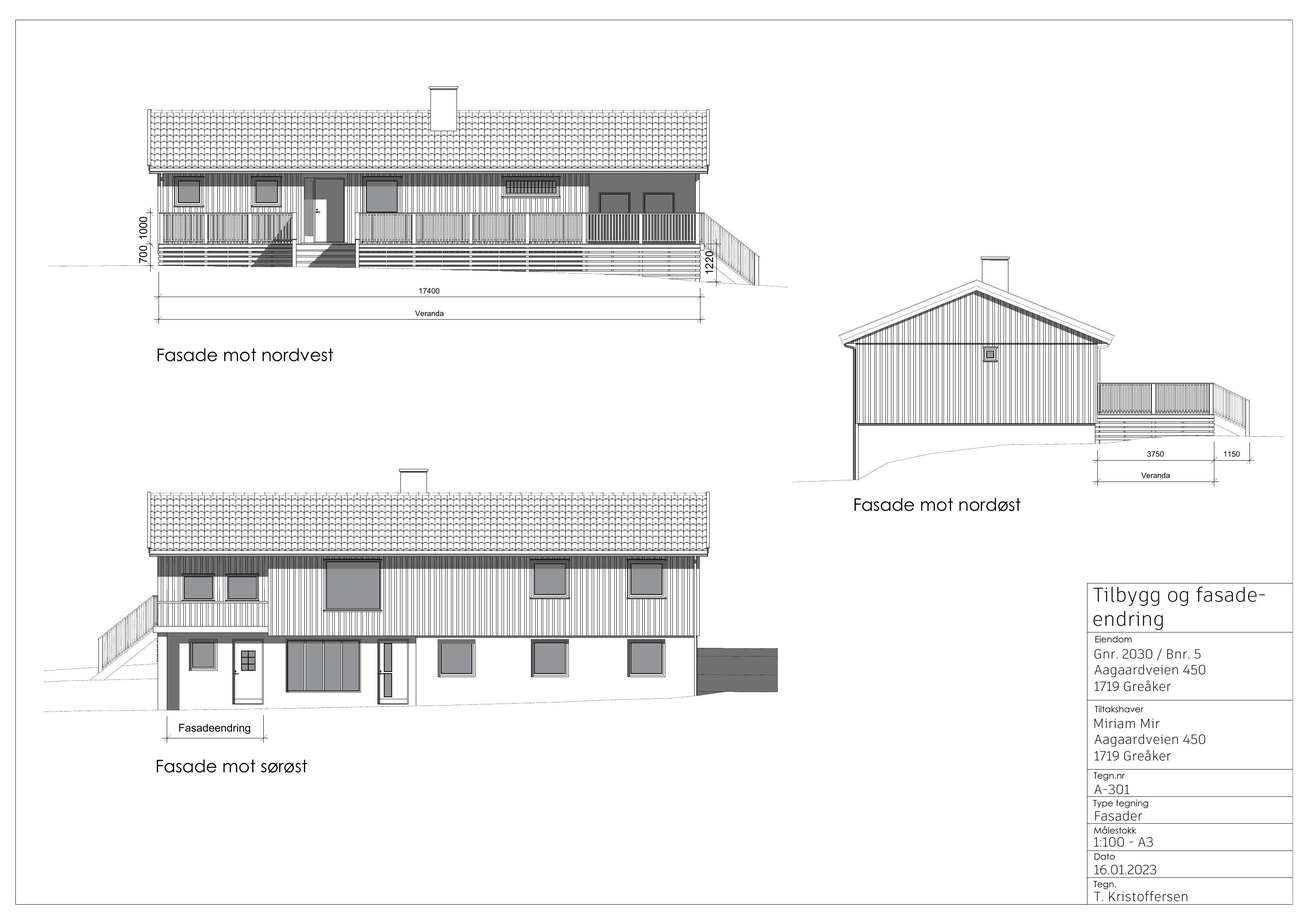fasade: (98, 467, 776, 710), (145, 86, 761, 286), (839, 255, 1250, 480)
